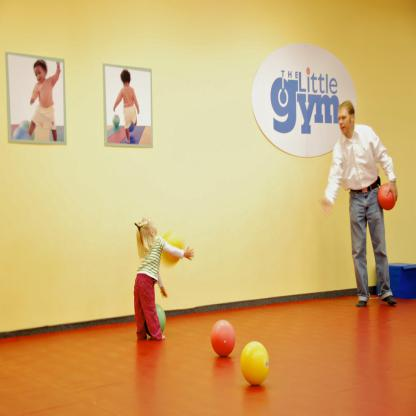Ball: (241, 341, 269, 385), (211, 321, 235, 358), (145, 303, 166, 335), (378, 183, 396, 210), (110, 113, 119, 126)
